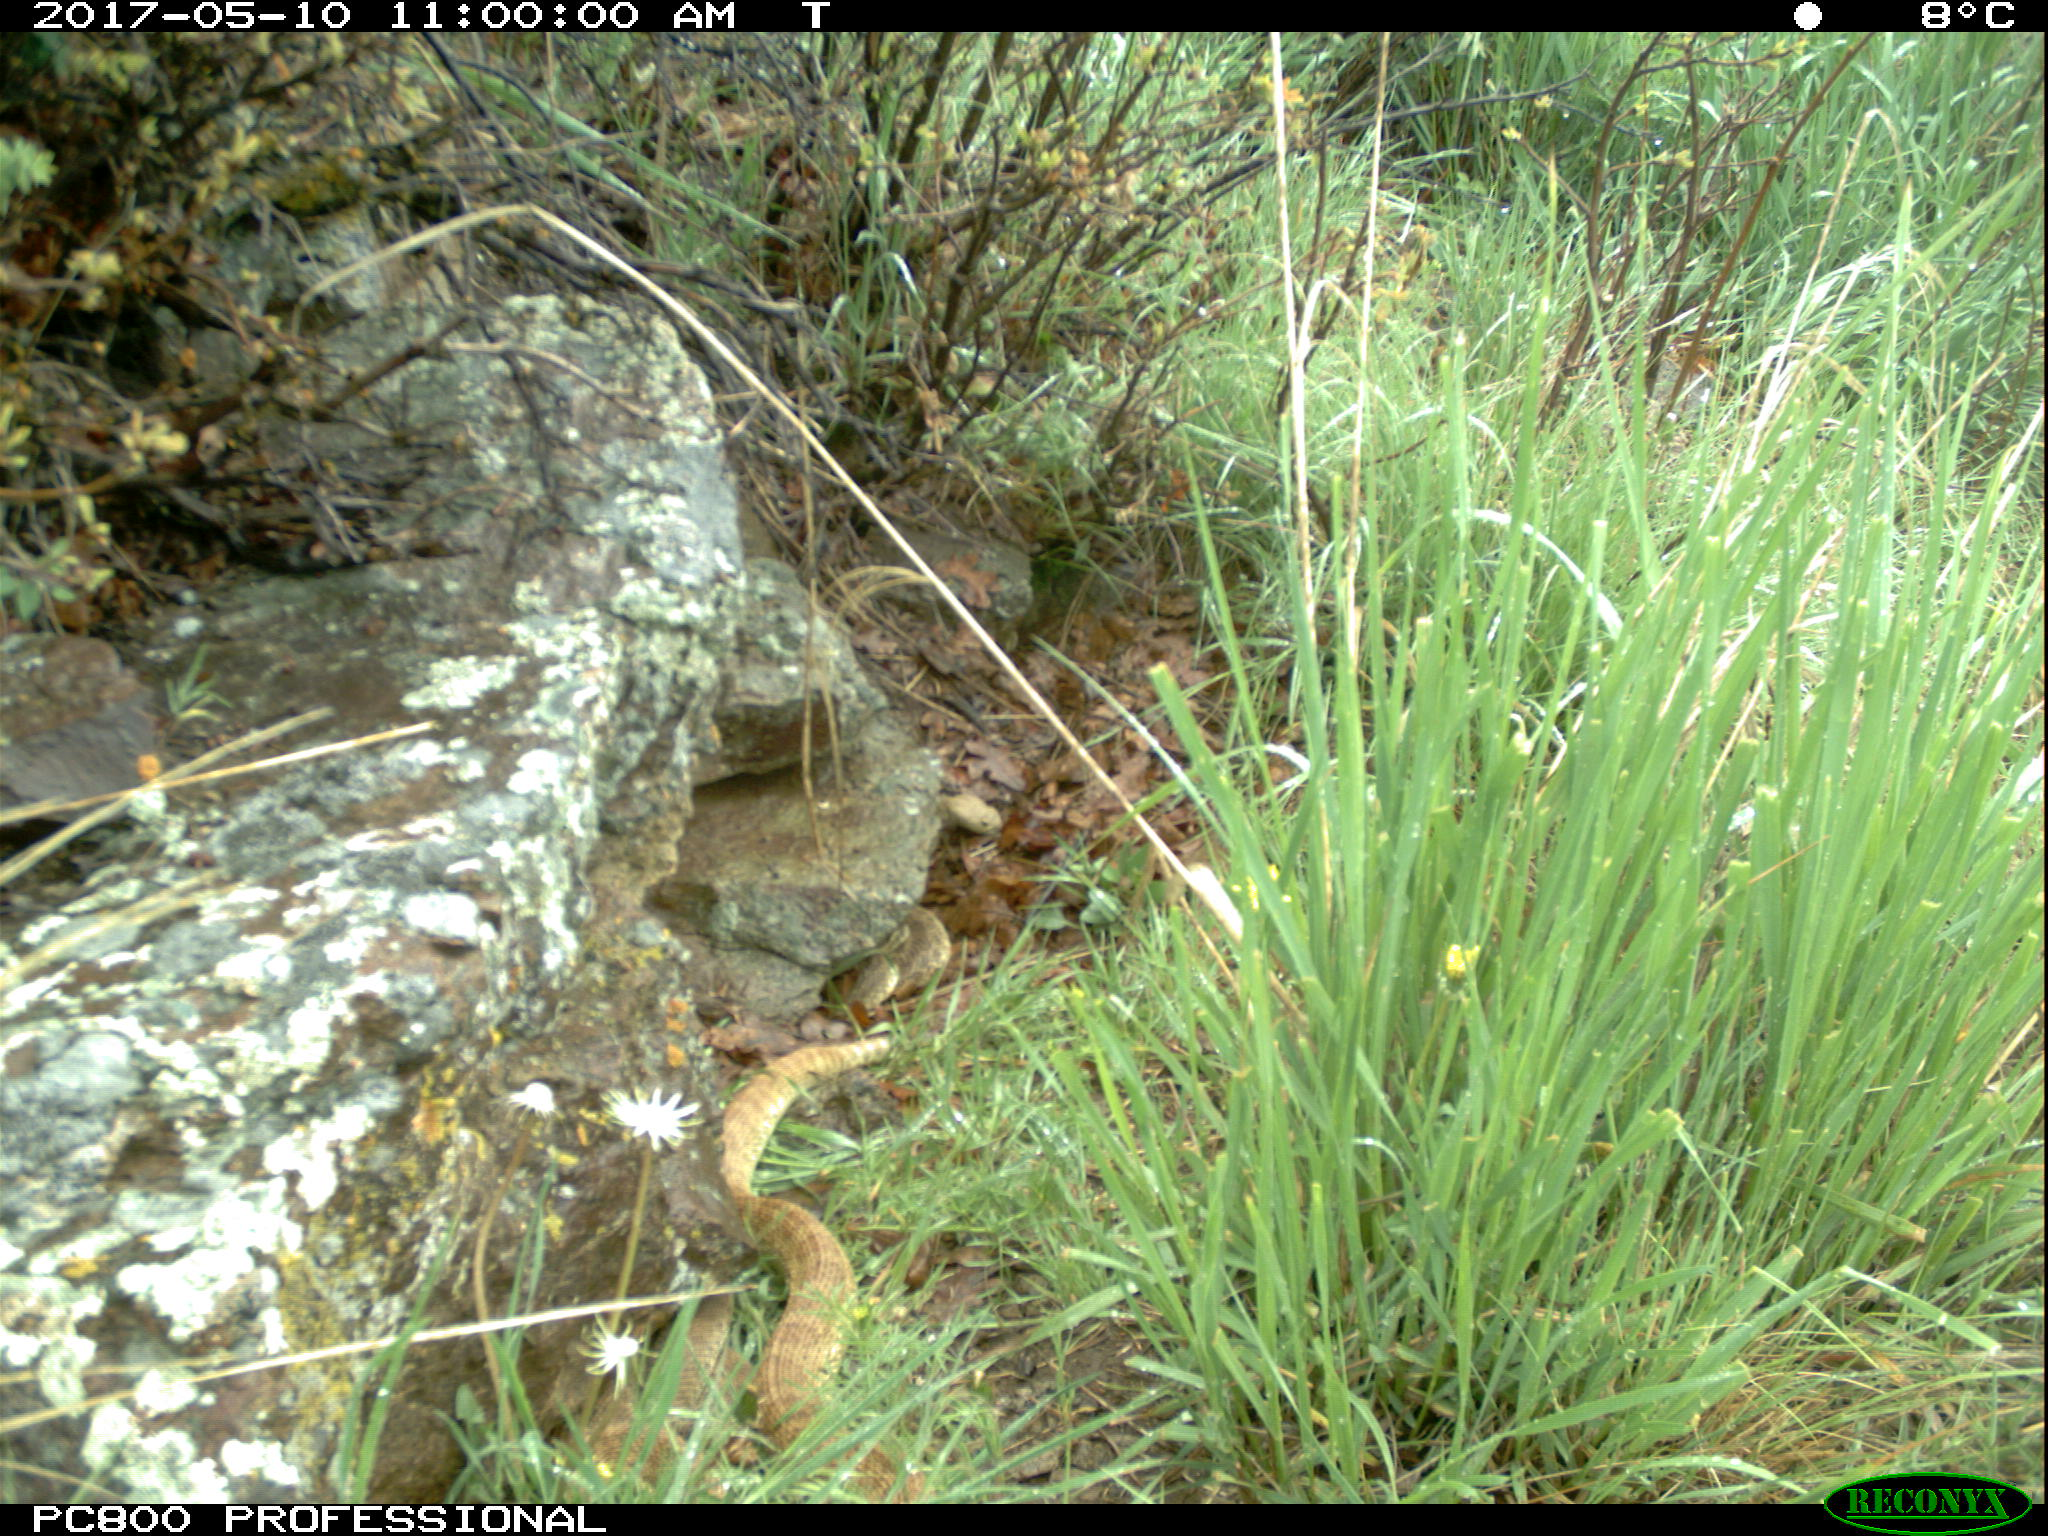snake: (708, 1029, 926, 1501), (572, 1297, 751, 1483), (845, 905, 955, 1004), (939, 791, 1005, 836)
